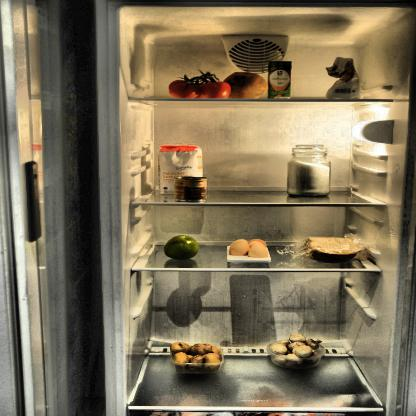apple: (164, 234, 201, 261)
corn: (174, 178, 210, 200)
eggs: (228, 236, 272, 261)
heavy_cream: (268, 58, 297, 100)
mushrooms: (269, 333, 324, 370)
potato: (168, 341, 222, 371)
sweet_potato: (222, 70, 270, 102)
tomato: (169, 76, 231, 98)
